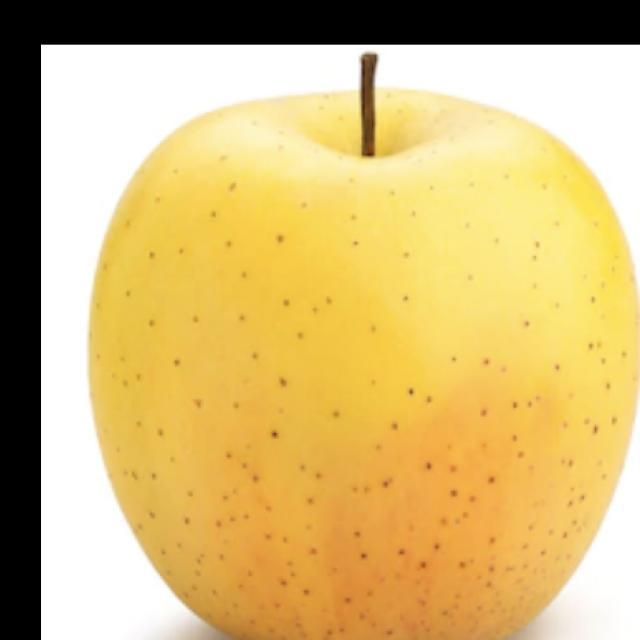Fresh Apple: (80, 83, 640, 640)
